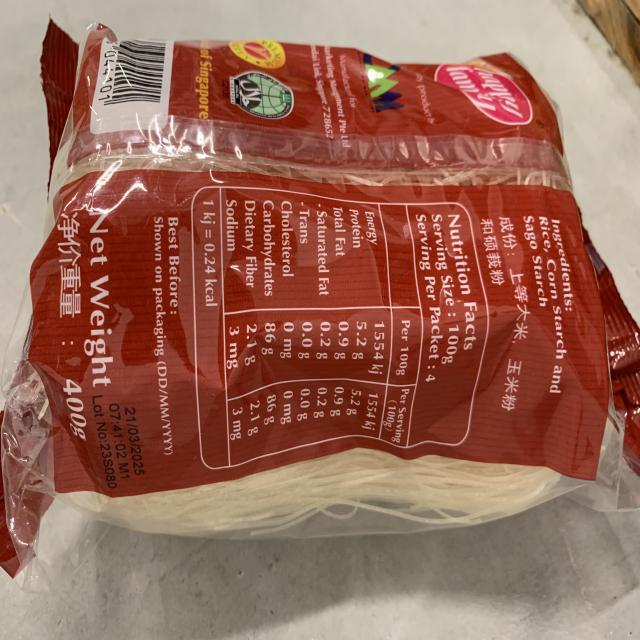object_name: (45, 36, 566, 478)
